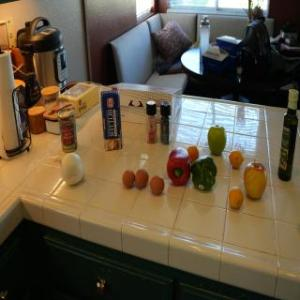bell_pepper: (166, 147, 193, 187), (189, 156, 219, 190)
egg: (150, 174, 166, 196), (133, 168, 148, 190), (120, 169, 134, 190)
onion: (56, 150, 85, 188)
